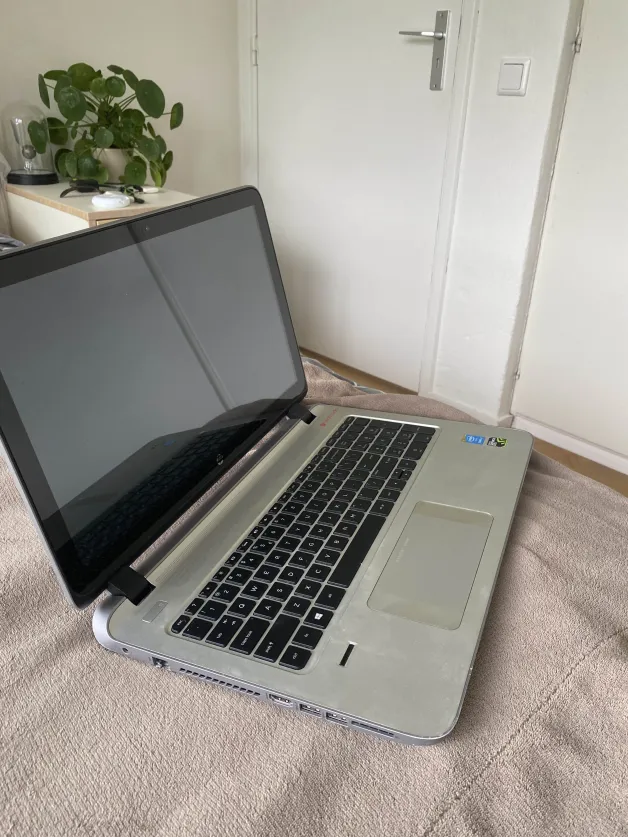laptop: (1, 173, 550, 765)
